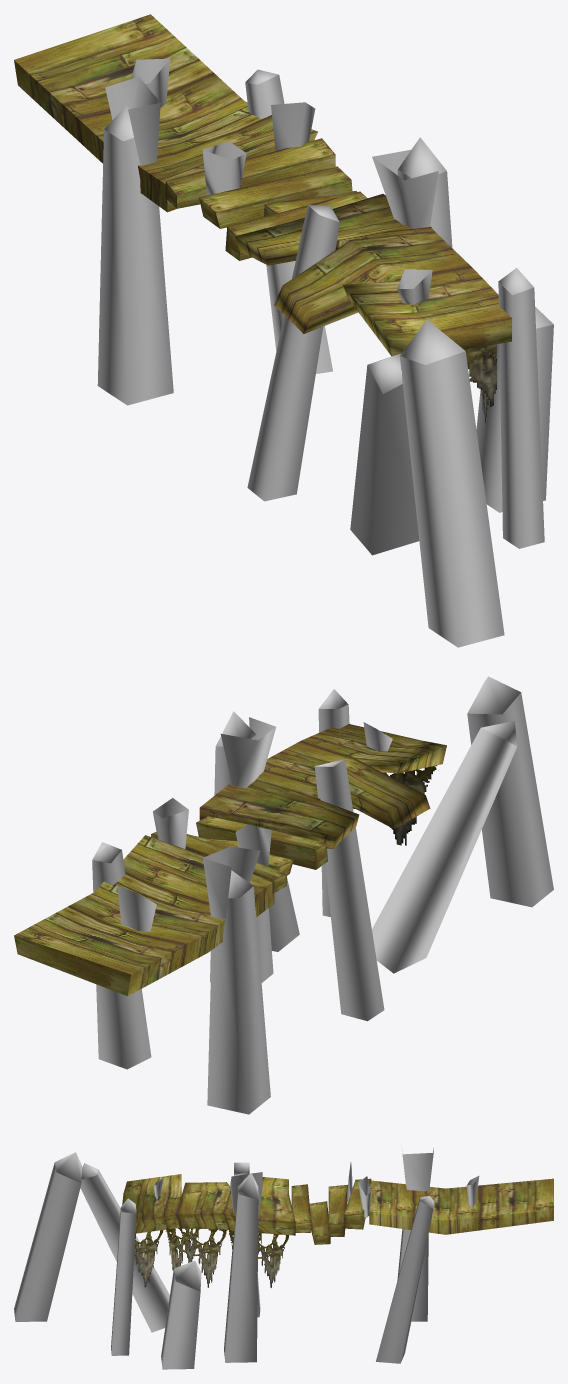
Rendered from swampdock01.obj.
The picture shows the model from 3 angles, top to bottom: view 1: azimuth 30°, elevation 25°; view 2: azimuth 150°, elevation 25°; view 3: azimuth 270°, elevation 25°; orthographic projection. The views are drawn at different scales.
Parts seen in each view (by area): view 1: SwampDock01; view 2: SwampDock01; view 3: SwampDock01.
Part boxes in pixels (box(x1,y1,x2,y2)): SwampDock01: box(14, 14, 553, 647); SwampDock01: box(14, 676, 553, 1114); SwampDock01: box(14, 1148, 553, 1369).
Size of the model in its own units: 7.85 by 9.47 by 25.15.
